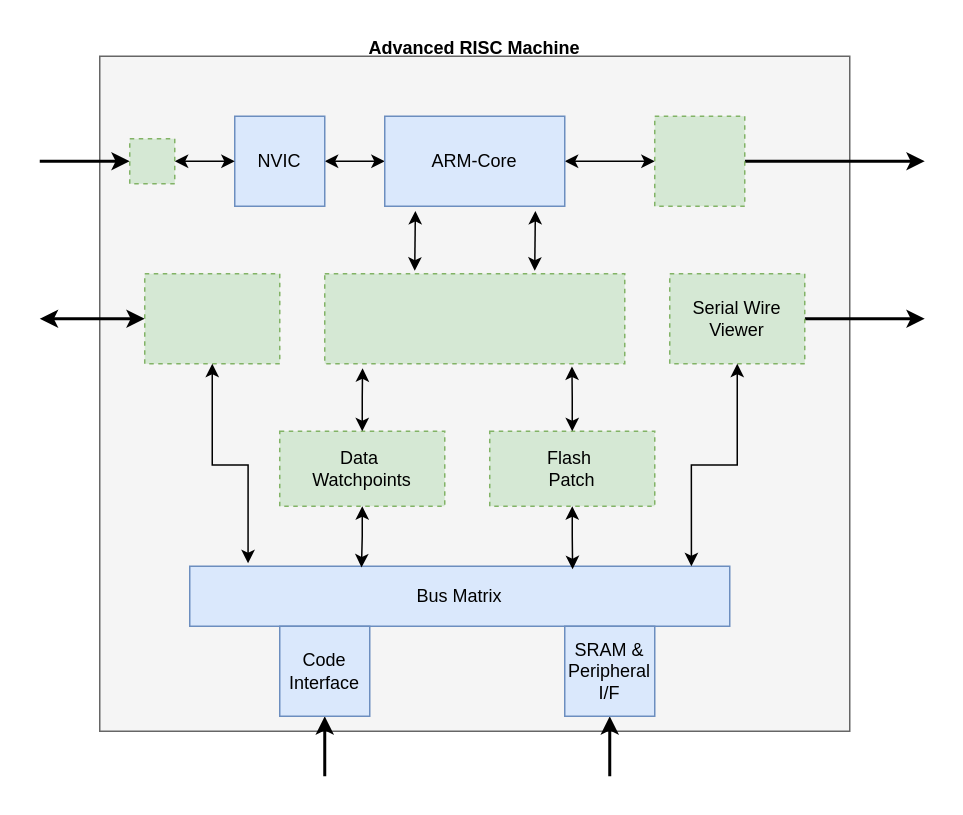
Image size: 963x815. Some labels were removed from this diagram. The shapes that lost their labels are listed below. From the top down, each one's centre as x and y in pixels, then its label:
(151,160): WIC
(699,160): ETM
(211,318): DAP
(474,318): Memory Protection Unit
